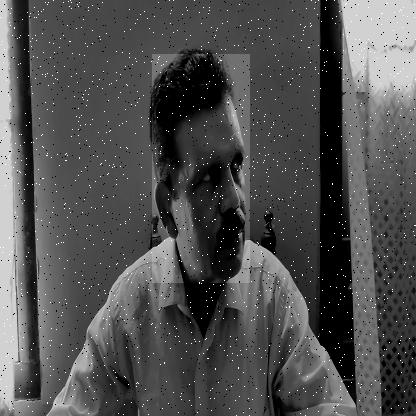Distracted: (152, 54, 250, 283)
